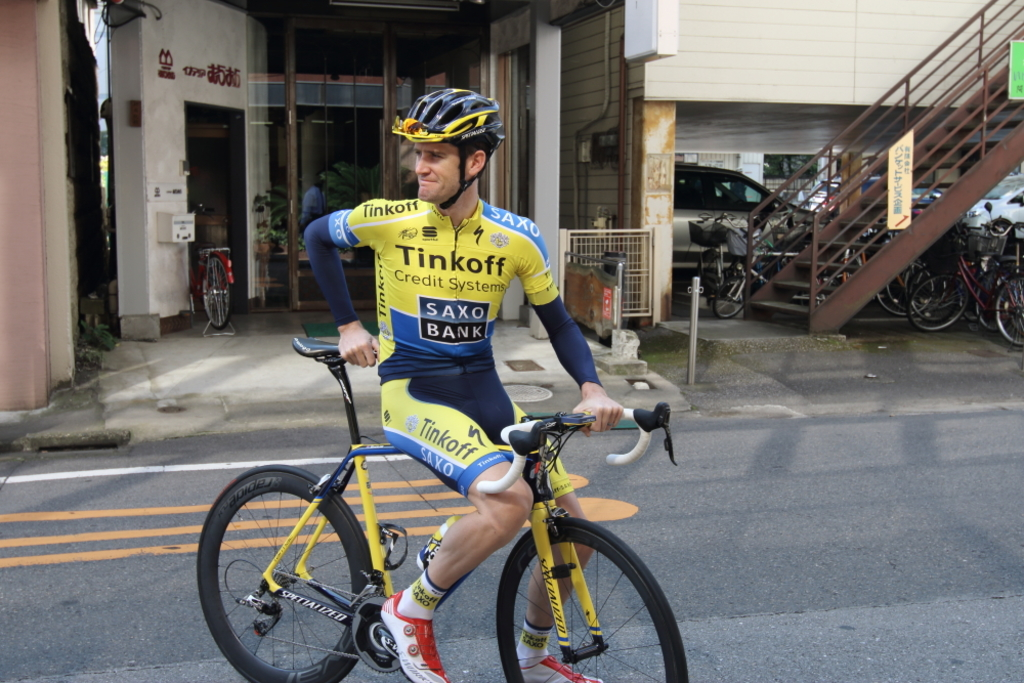Bike: (195, 338, 694, 682)
